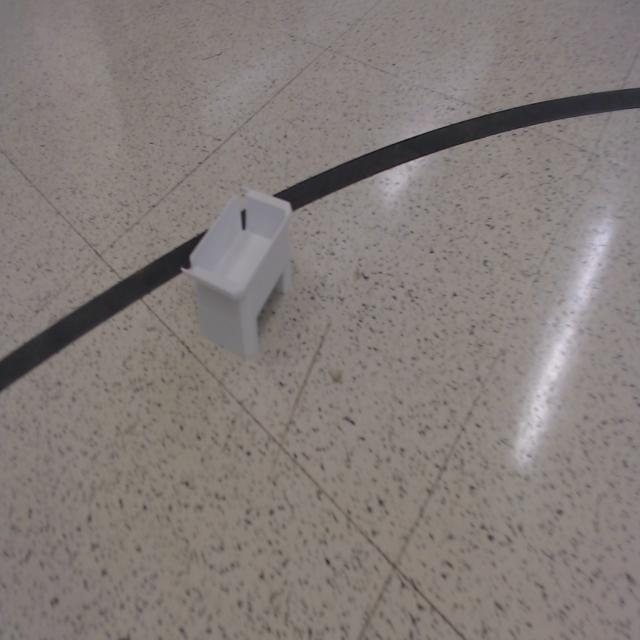wbox: (178, 181, 295, 361)
